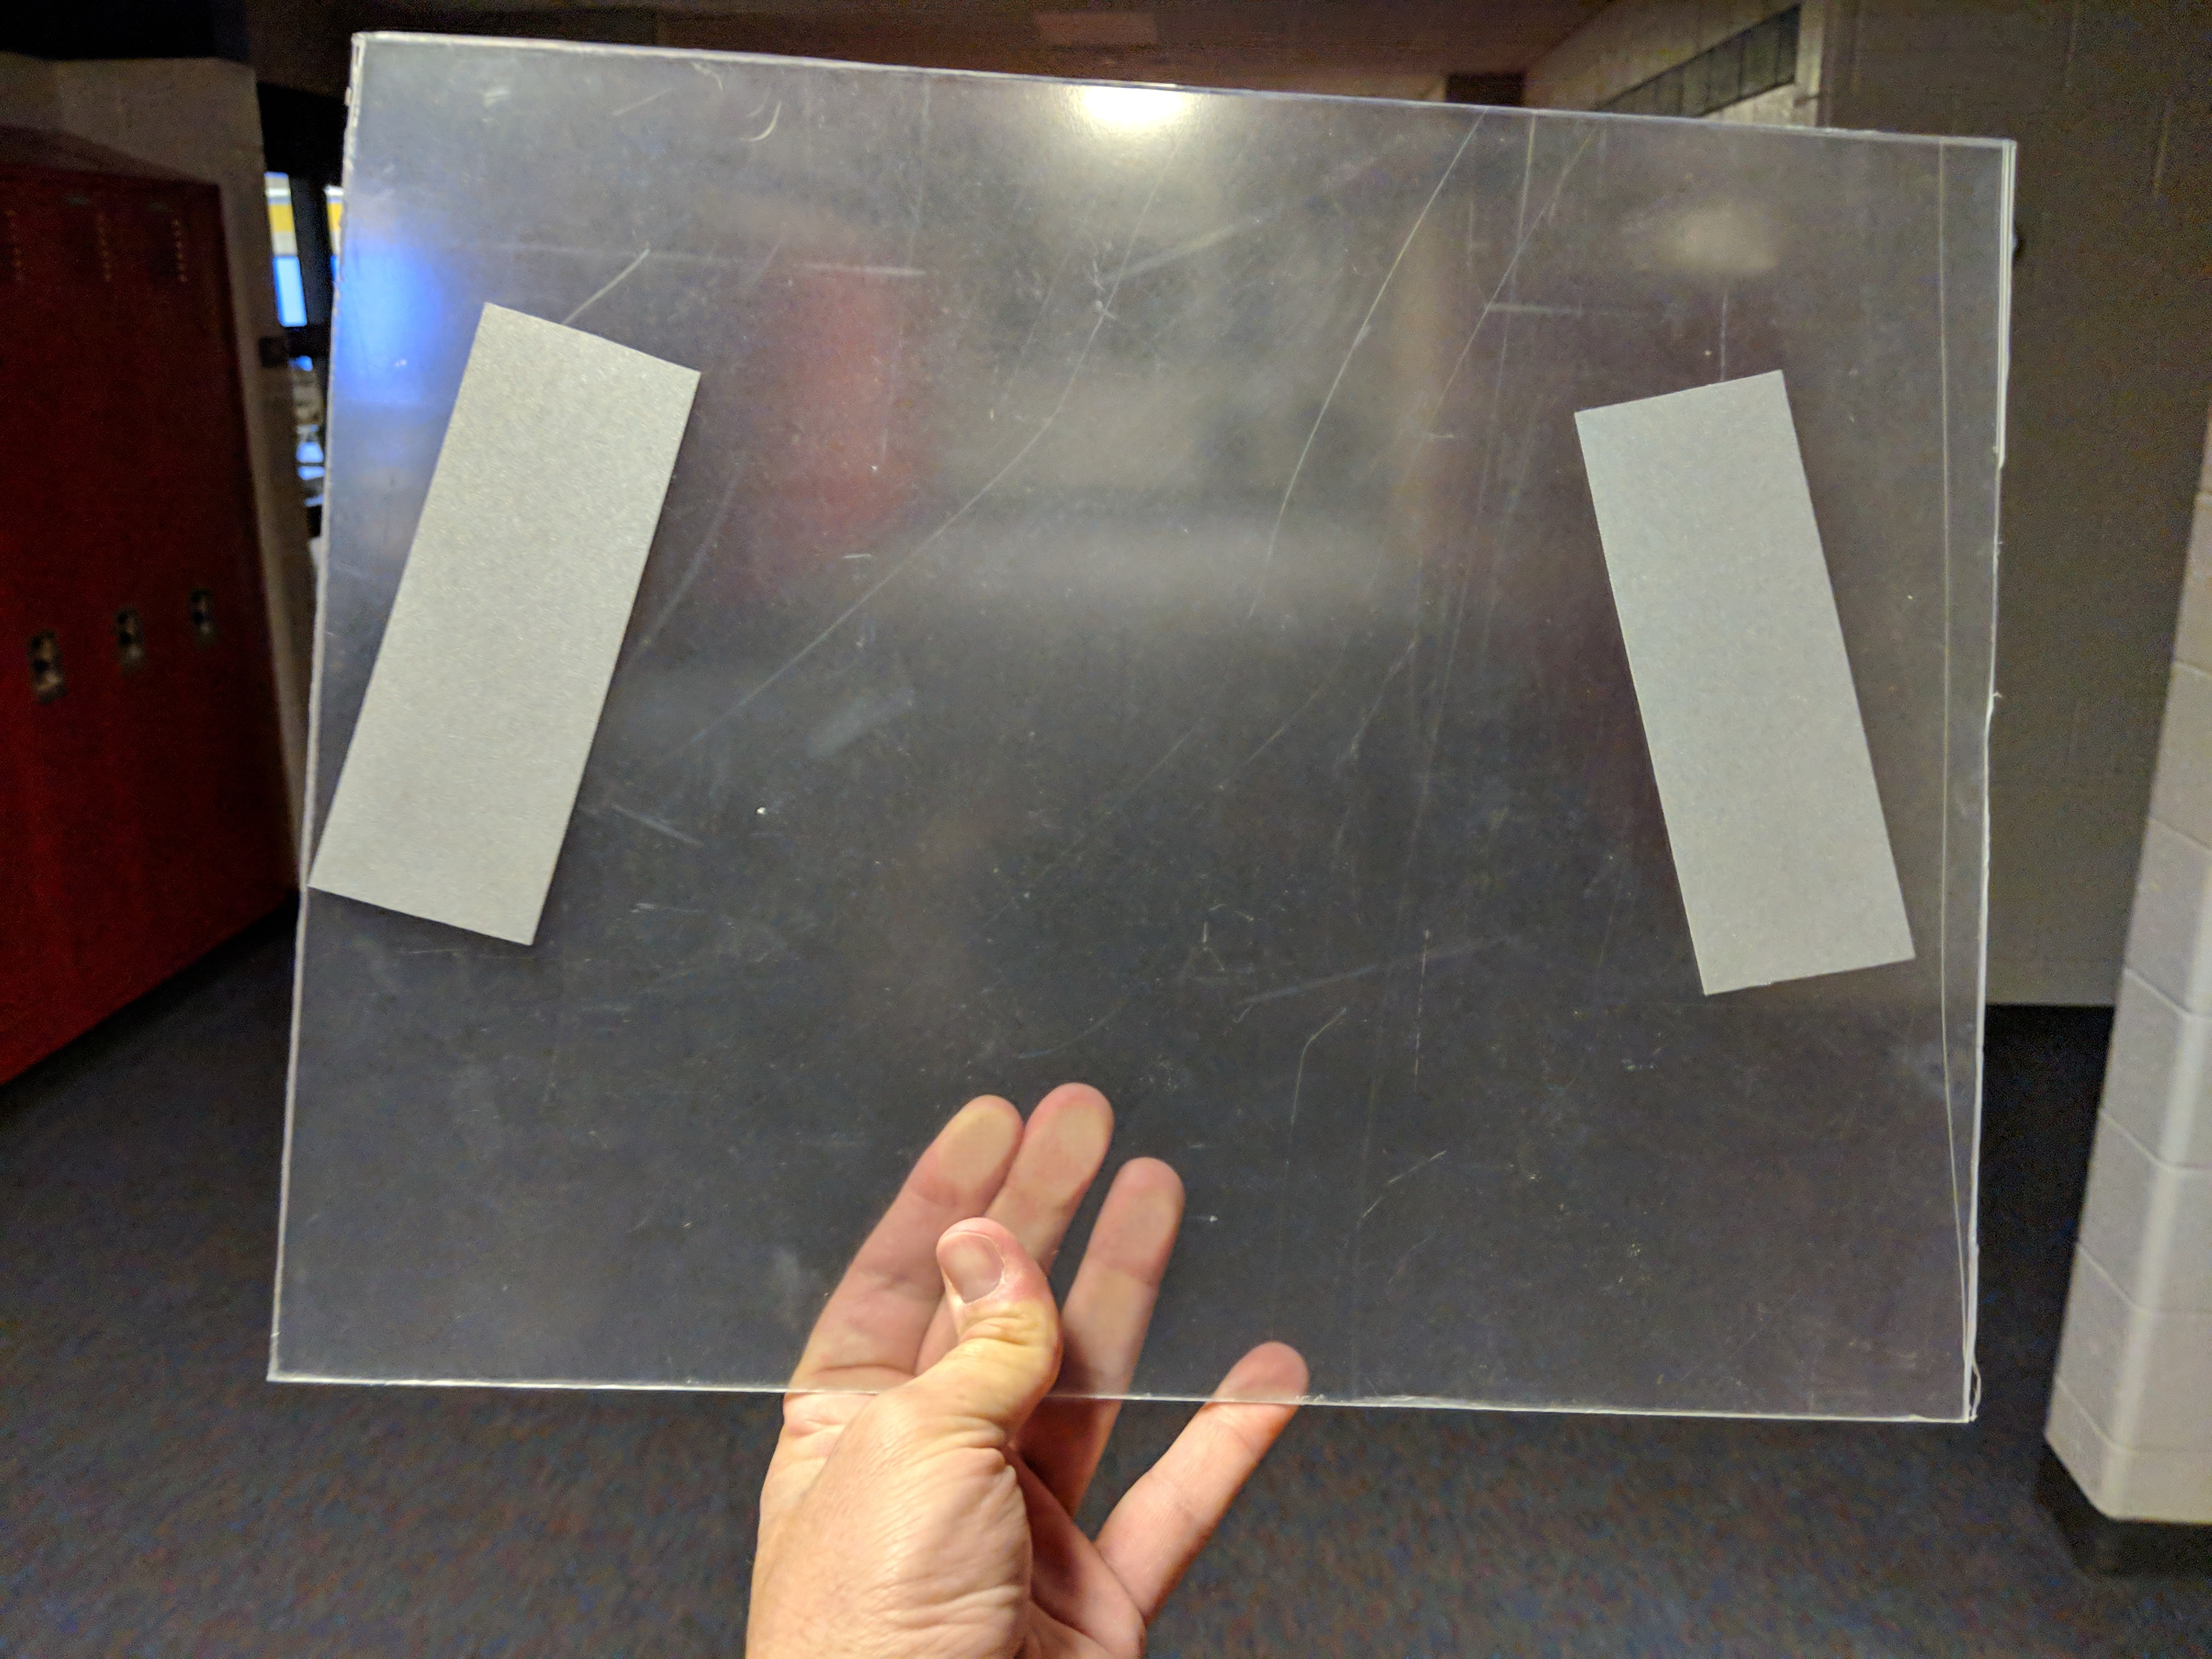vision_target: (300, 291, 1926, 1037)
